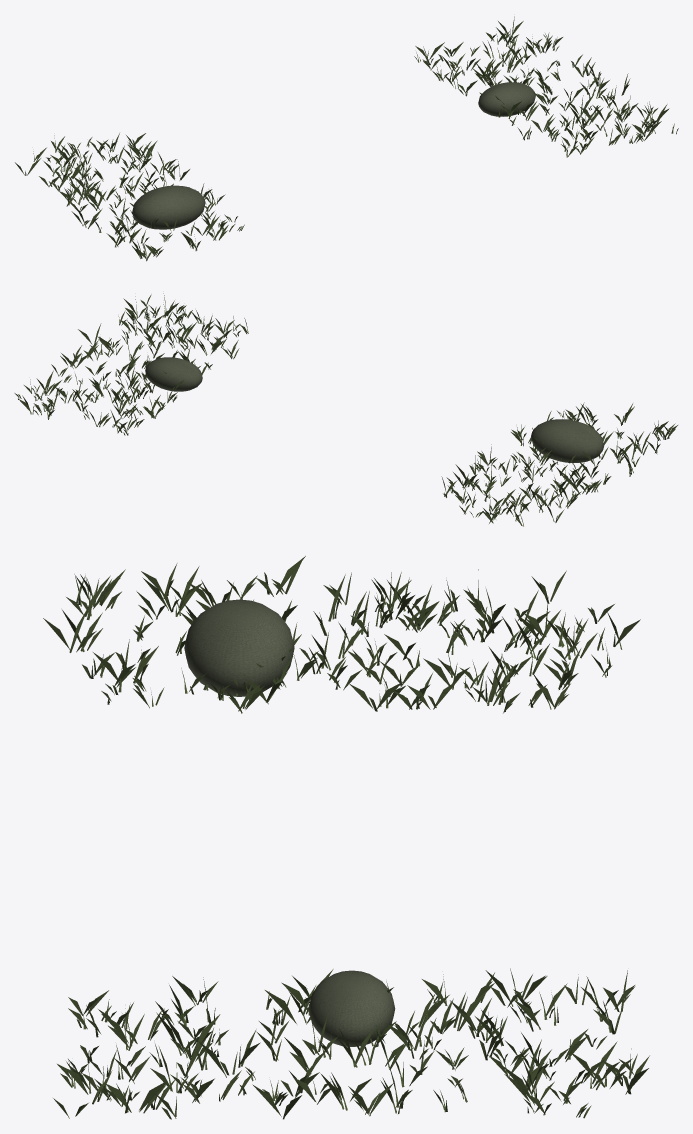
The model's file is shallowWater-v1.glb.
The picture shows the model from 3 angles, top to bottom: view 1: azimuth 30°, elevation 25°; view 2: azimuth 150°, elevation 25°; view 3: azimuth 270°, elevation 25°; orthographic projection. The views are drawn at different scales.
Parts seen in each view (by area): view 1: Grass blades, Verge boulder; view 2: Grass blades, Verge boulder; view 3: Grass blades, Verge boulder.
Boxes of the visible parts, box(x1,y1,x2,y2) form: Grass blades: box(15, 16, 678, 261); Verge boulder: box(132, 82, 535, 229); Grass blades: box(14, 293, 677, 526); Verge boulder: box(145, 357, 603, 462); Grass blades: box(43, 556, 649, 1119); Verge boulder: box(184, 599, 395, 1046).
Size of what is drawn, in the model's own units: 22.81 by 1.4 by 10.8.
Materials: 2 (2 with a texture image).
